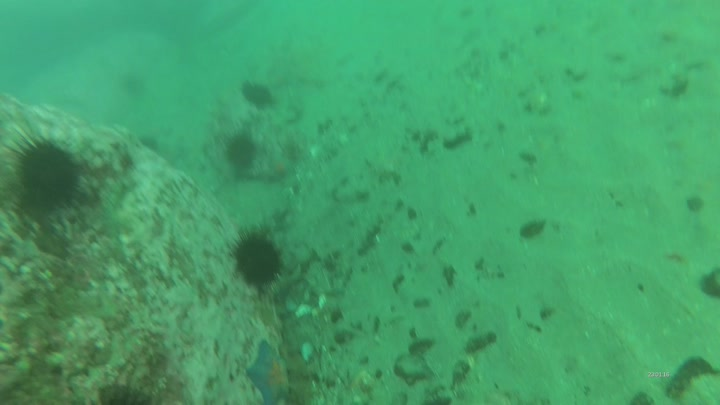echinus: (2, 126, 94, 216), (227, 223, 290, 300), (220, 127, 264, 175), (241, 80, 280, 111)
starfish: (242, 341, 293, 405), (264, 148, 297, 188)
